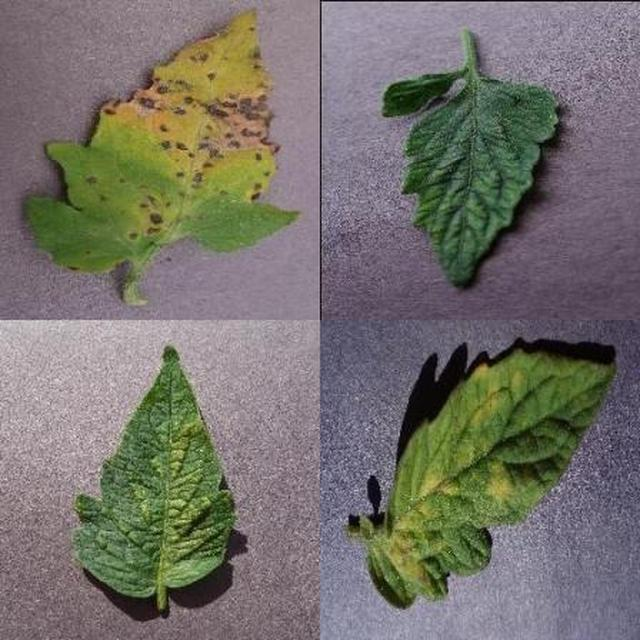Septoria Leaf: (219, 201, 640, 640)
